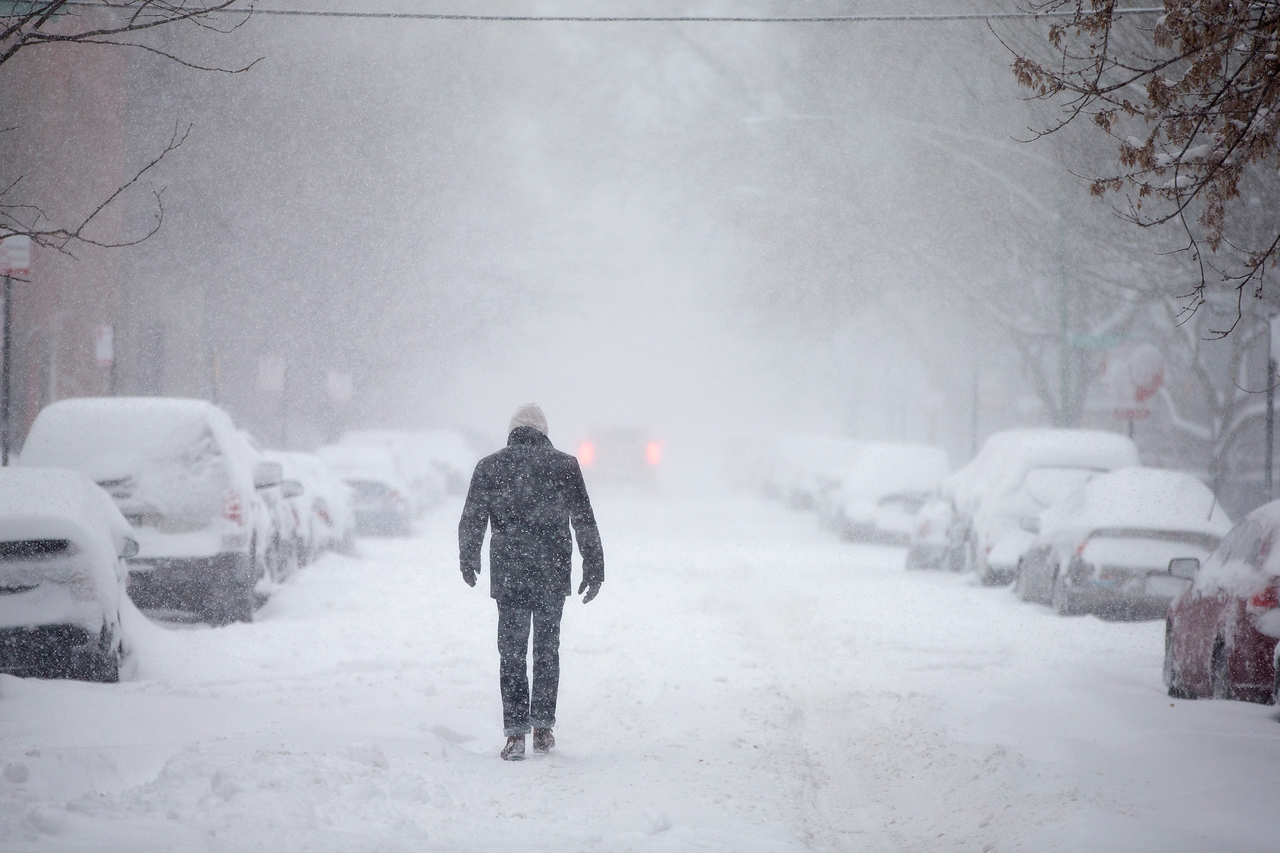car: (19, 406, 278, 612), (1023, 468, 1233, 620), (0, 460, 139, 684), (937, 436, 1139, 583), (981, 457, 1168, 598), (1162, 487, 1279, 710), (808, 441, 950, 539), (318, 441, 436, 536), (238, 429, 301, 579), (572, 417, 663, 496), (292, 444, 352, 555), (415, 427, 474, 499)
person: (459, 407, 594, 758)
